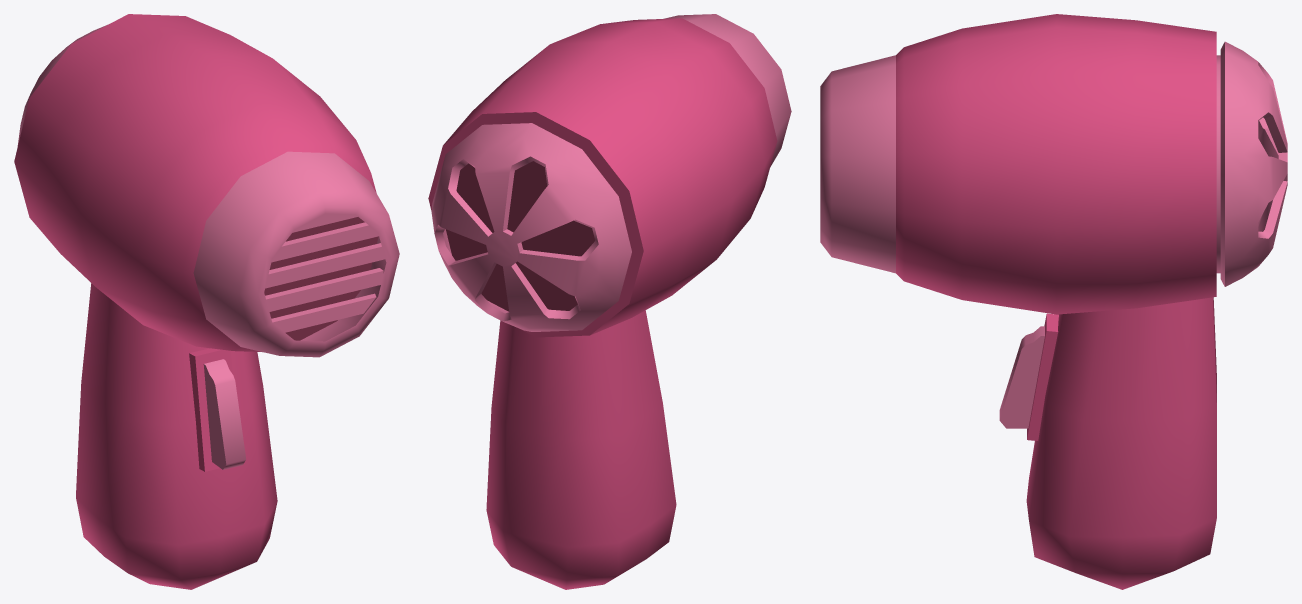
File: Hairdryer_01.fbx
The picture shows the model from 3 angles, left to right: view 1: azimuth 30°, elevation 25°; view 2: azimuth 150°, elevation 25°; view 3: azimuth 270°, elevation 25°; orthographic projection. The views are drawn at different scales.
Visible parts, largest first — view 1: Hairdryer_01; view 2: Hairdryer_01; view 3: Hairdryer_01.
Boxes of the visible parts, x1=… form: Hairdryer_01: x1=14, y1=14, x2=399, y2=589; Hairdryer_01: x1=428, y1=14, x2=791, y2=589; Hairdryer_01: x1=820, y1=14, x2=1287, y2=589.
Size of the model in its own units: 0.1633 by 0.3287 by 0.2529.
